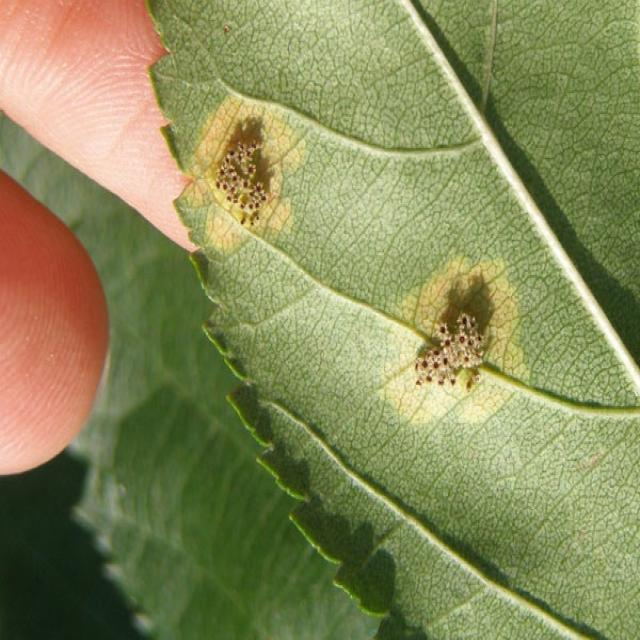Gymnosporangium_Rusts: (162, 82, 554, 496)
